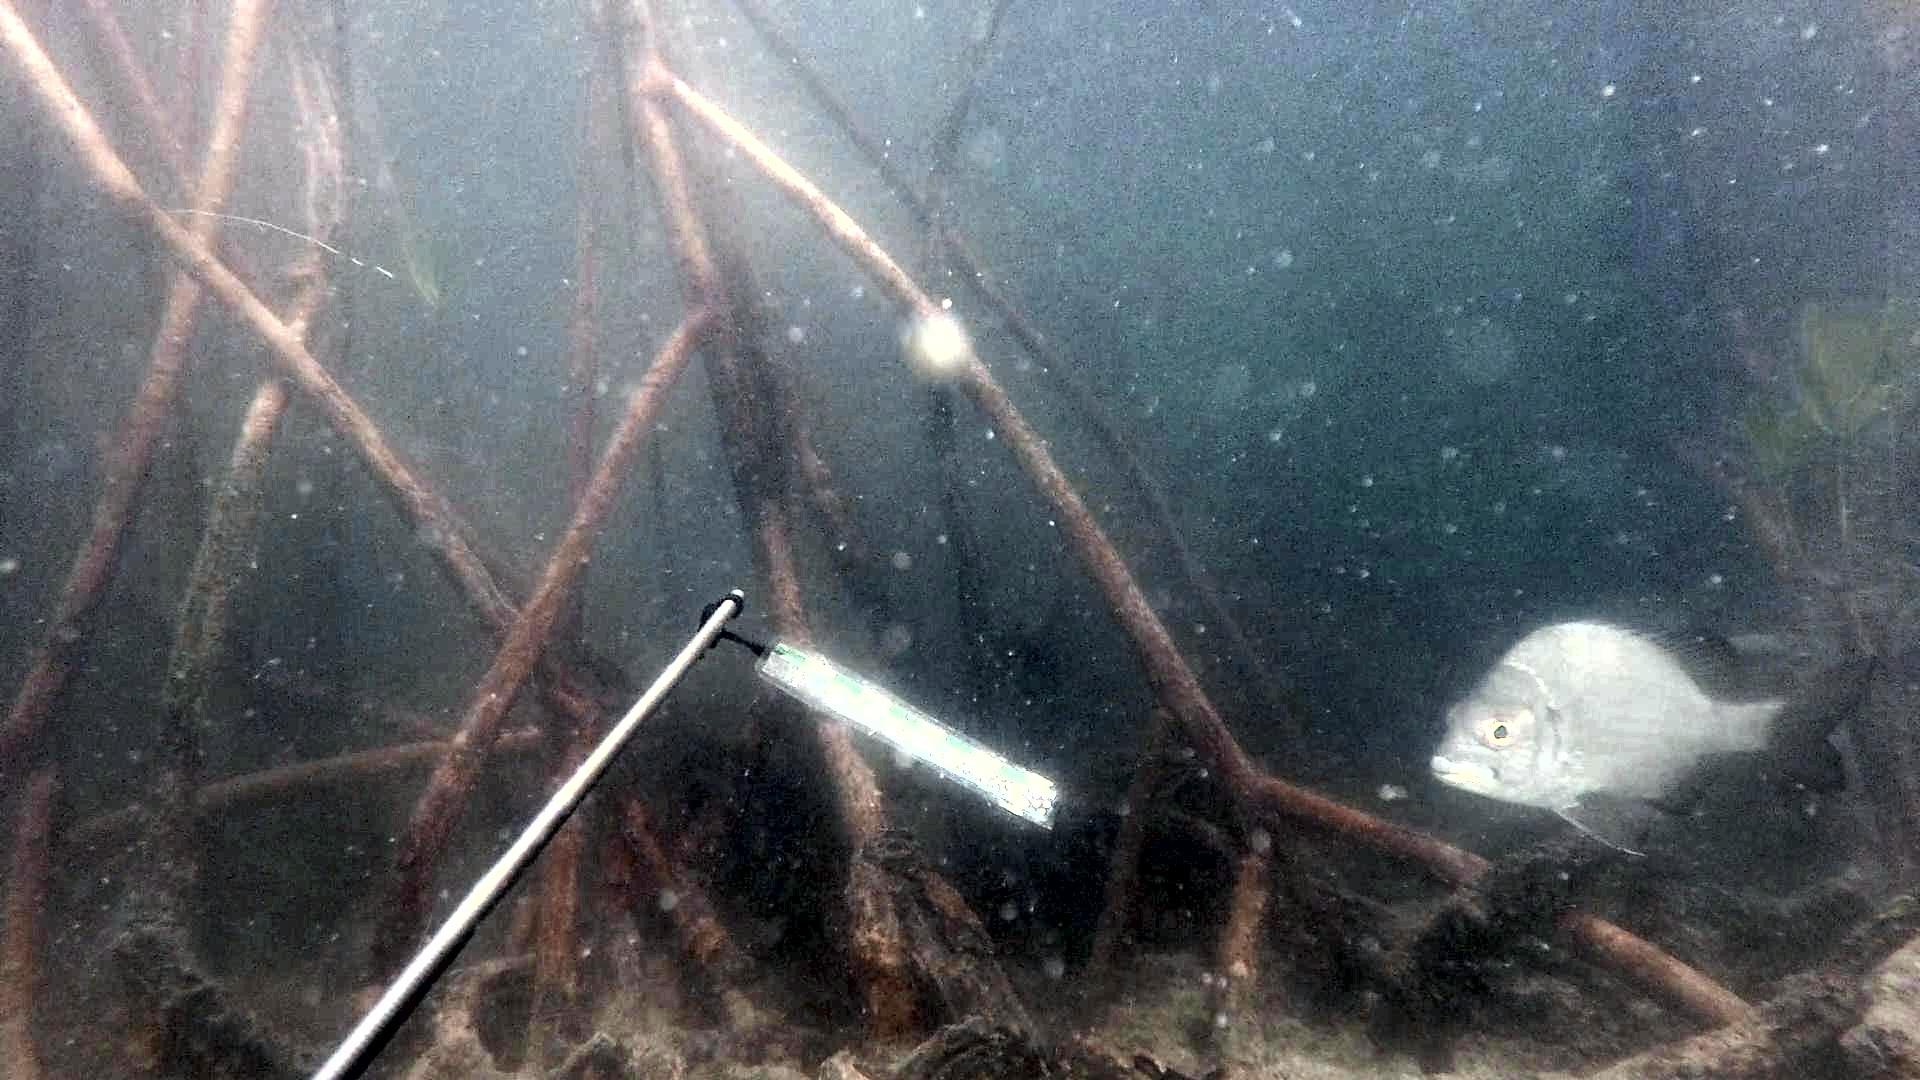acanthopagrus palmaris: (1423, 597, 1880, 861)
